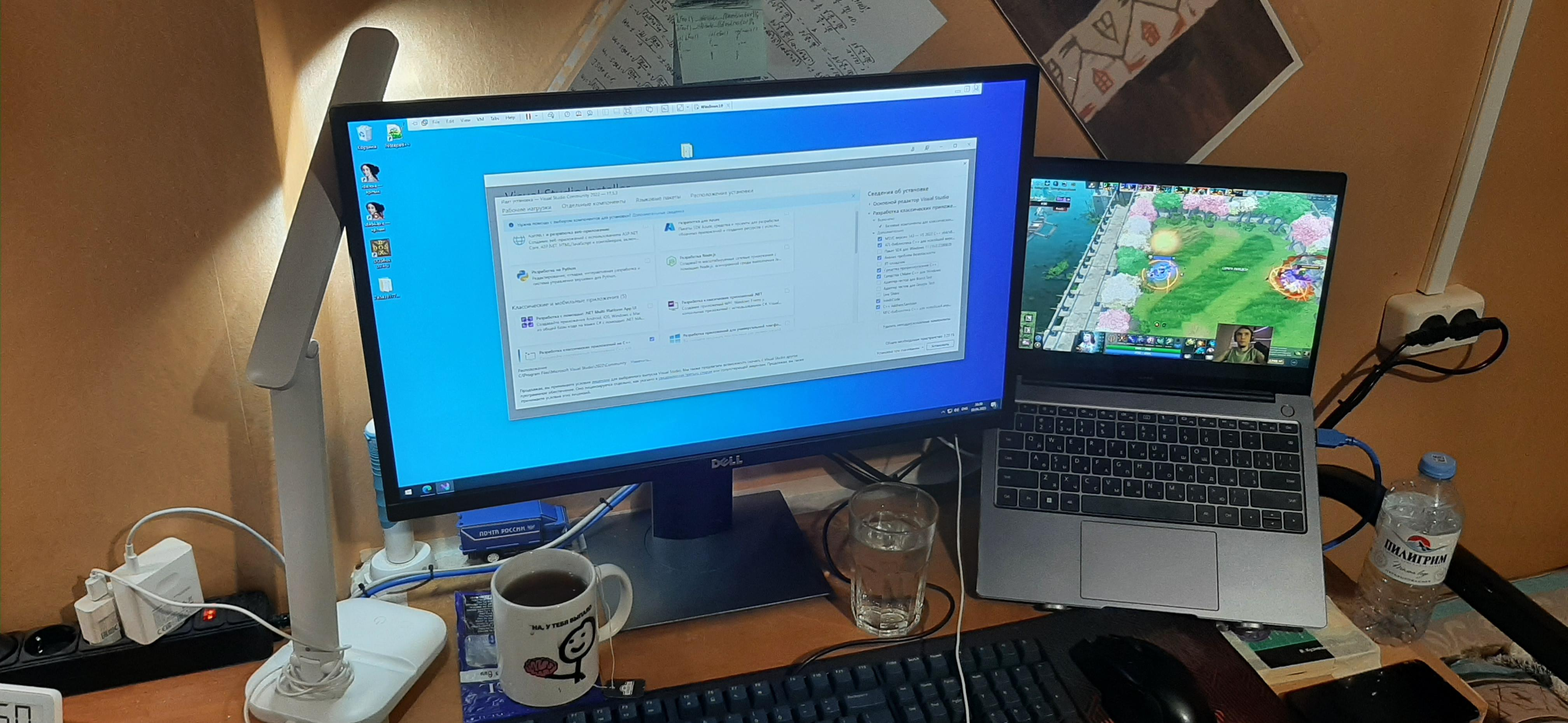monitor: (327, 58, 1042, 529), (961, 142, 1357, 431)
